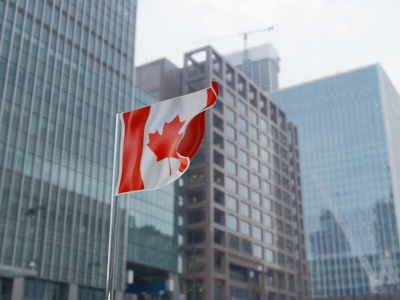Canada flag: (115, 80, 220, 193)
